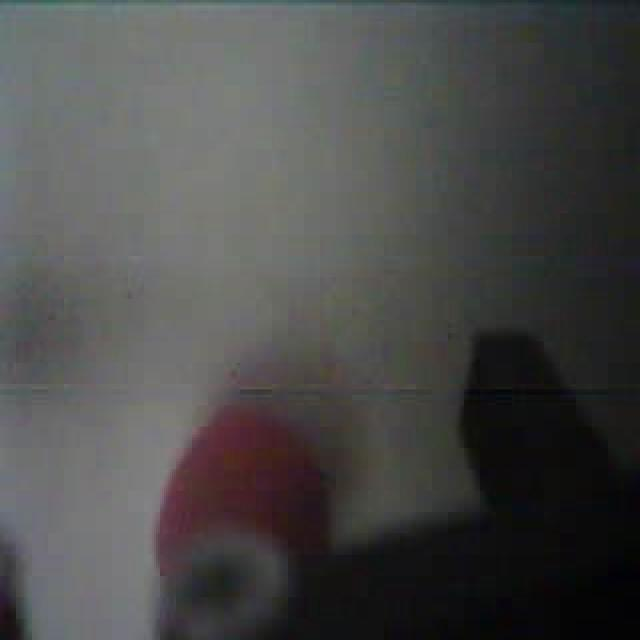red_ball: (150, 398, 338, 638)
